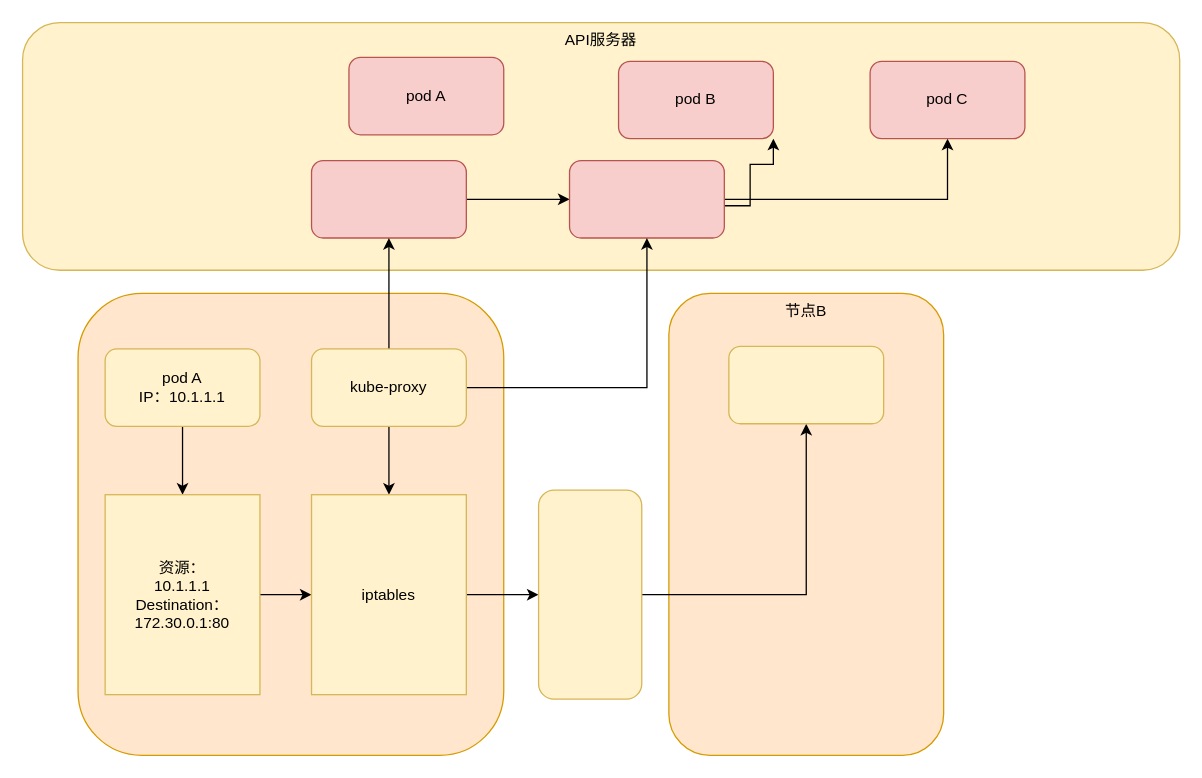
Image size: 1202x778. Some labels were removed from this diagram. The box of each missing label's shape, as (x1, y1, x2, y2) in pixels:
Endpoint: (568, 159, 724, 238)
pod B IP：10.1.2.1: (728, 345, 884, 424)
Service 172.30.0.1:80: (310, 159, 466, 238)
节点A: (77, 292, 504, 755)
资源： 10.1.1.1 Destination： 172.30.0.1:80 10.1.2.1:8080: (537, 489, 642, 699)
